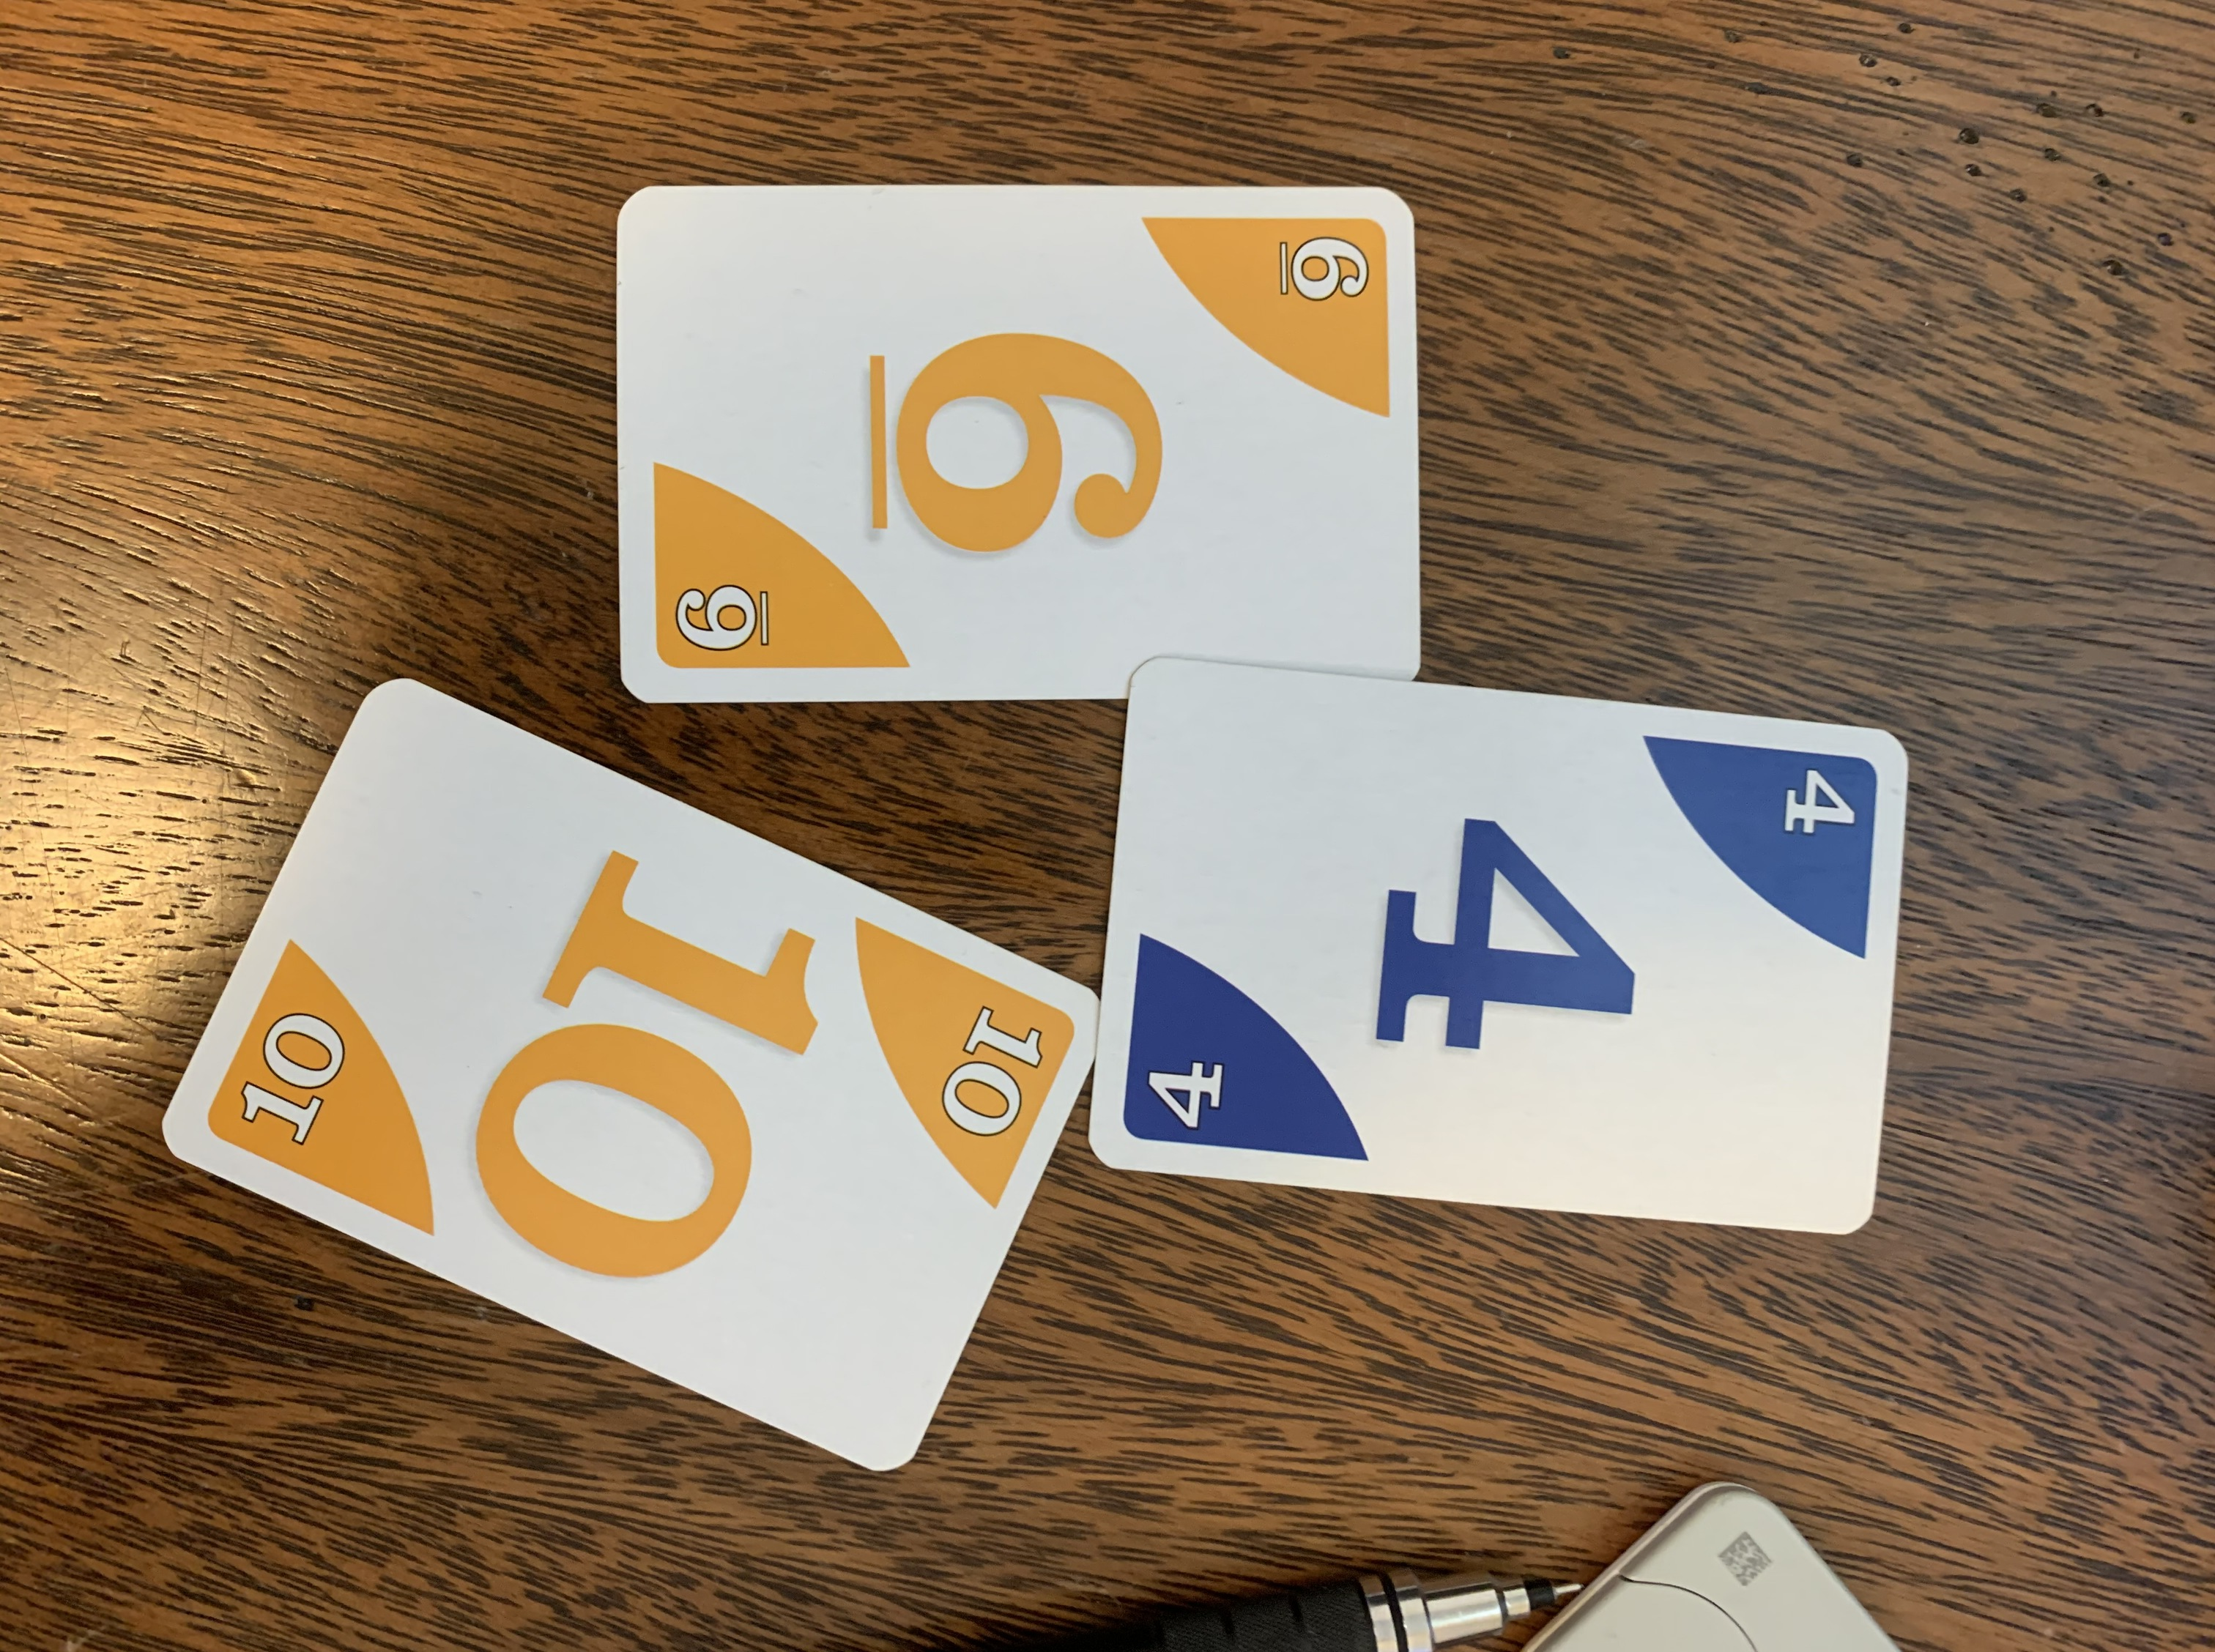four: (1080, 633, 1920, 1263)
six: (602, 168, 1453, 746)
